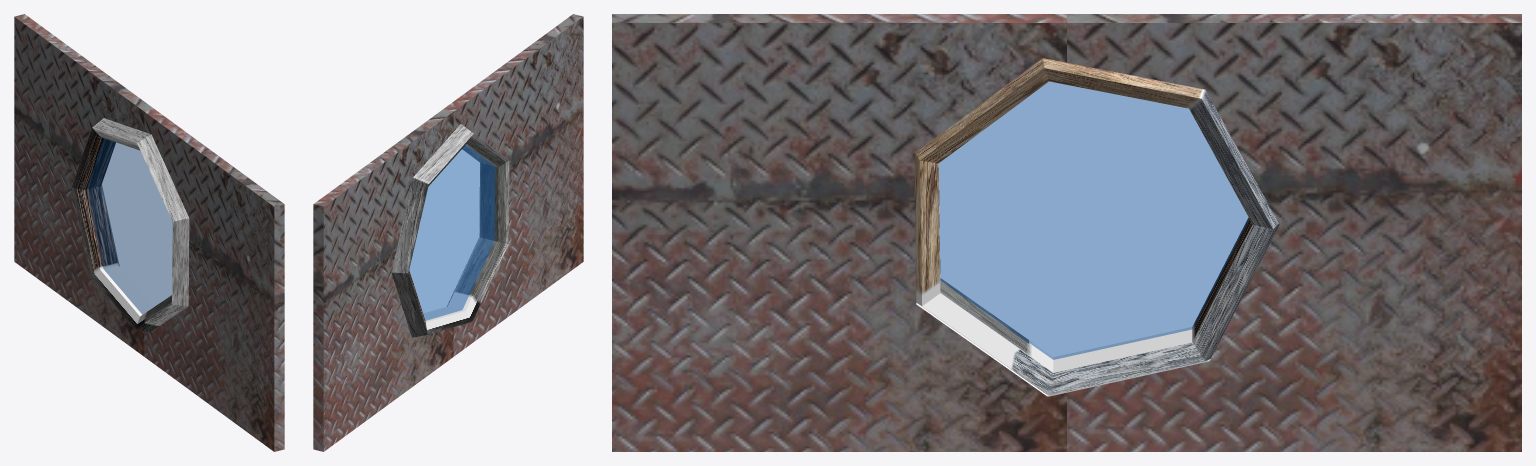
Rendered from ParedeJanela.glb.
3 views of the same model, side by side, from view 1: azimuth 30°, elevation 25°; view 2: azimuth 150°, elevation 25°; view 3: azimuth 270°, elevation 25° (orthographic). The views are drawn at different scales.
Parts seen in each view (by area): view 1: Circle.001; view 2: Circle.001; view 3: Circle.001.
Boxes of the visible parts, left/top/right/bottom form: Circle.001: left=14, top=14, right=284, bottom=451; Circle.001: left=313, top=14, right=583, bottom=451; Circle.001: left=612, top=14, right=1521, bottom=451.
Size of the model in its own units: 0.9271 by 7.41 by 14.24.
Materials: 3 (2 with a texture image).
